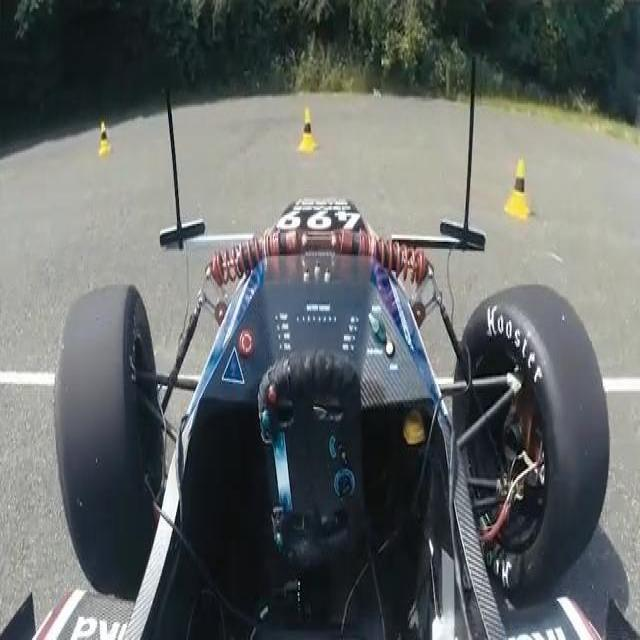yellow_cone: (504, 158, 531, 220), (297, 108, 317, 152), (98, 121, 112, 155)
